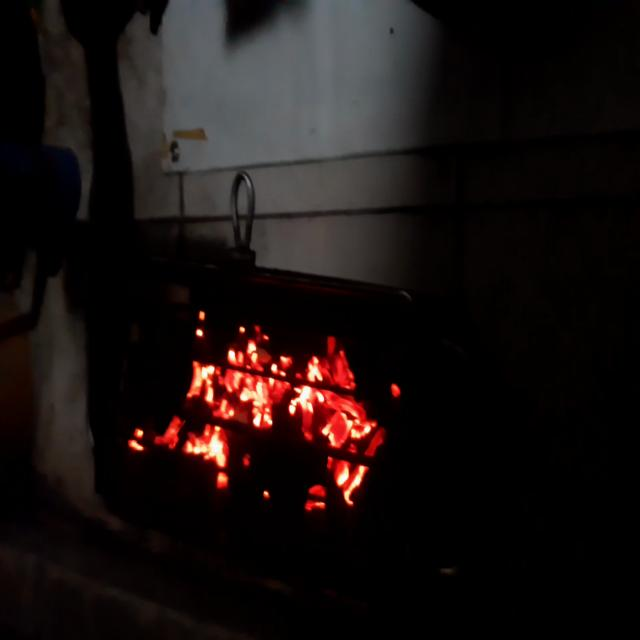Fire: (117, 287, 404, 528)
